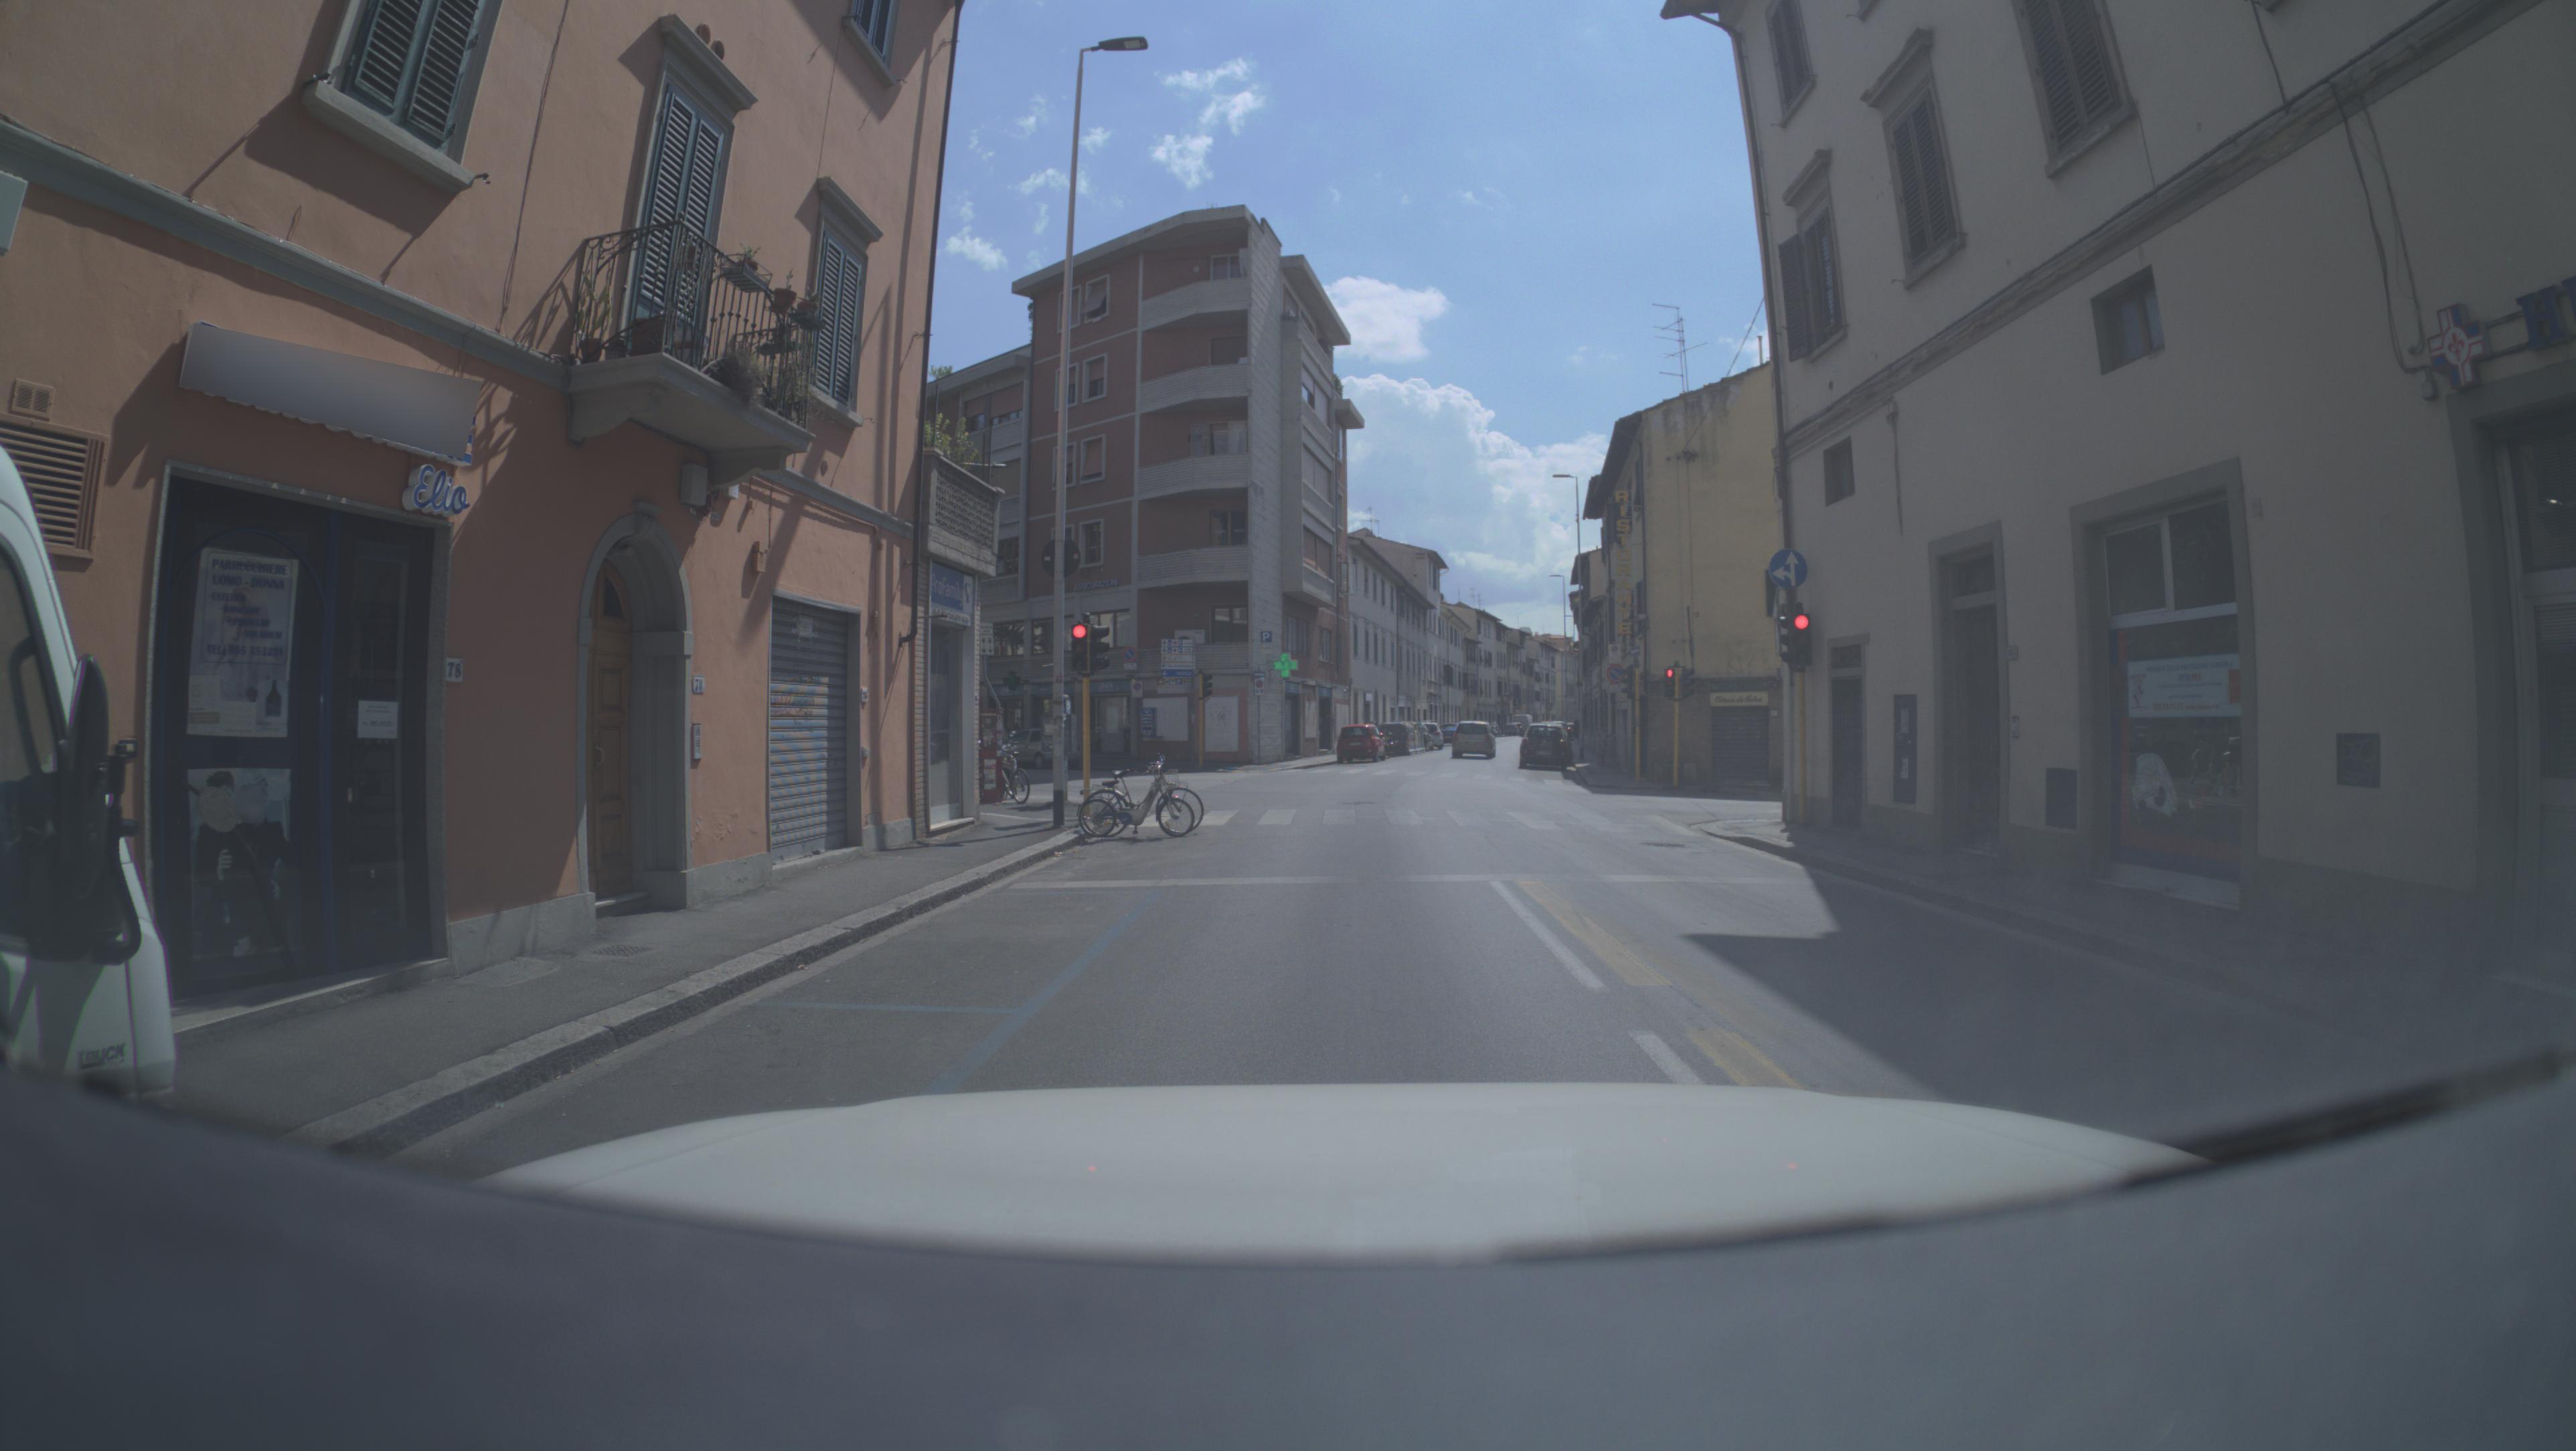red: (1791, 612, 1814, 671), (1070, 624, 1088, 674)
